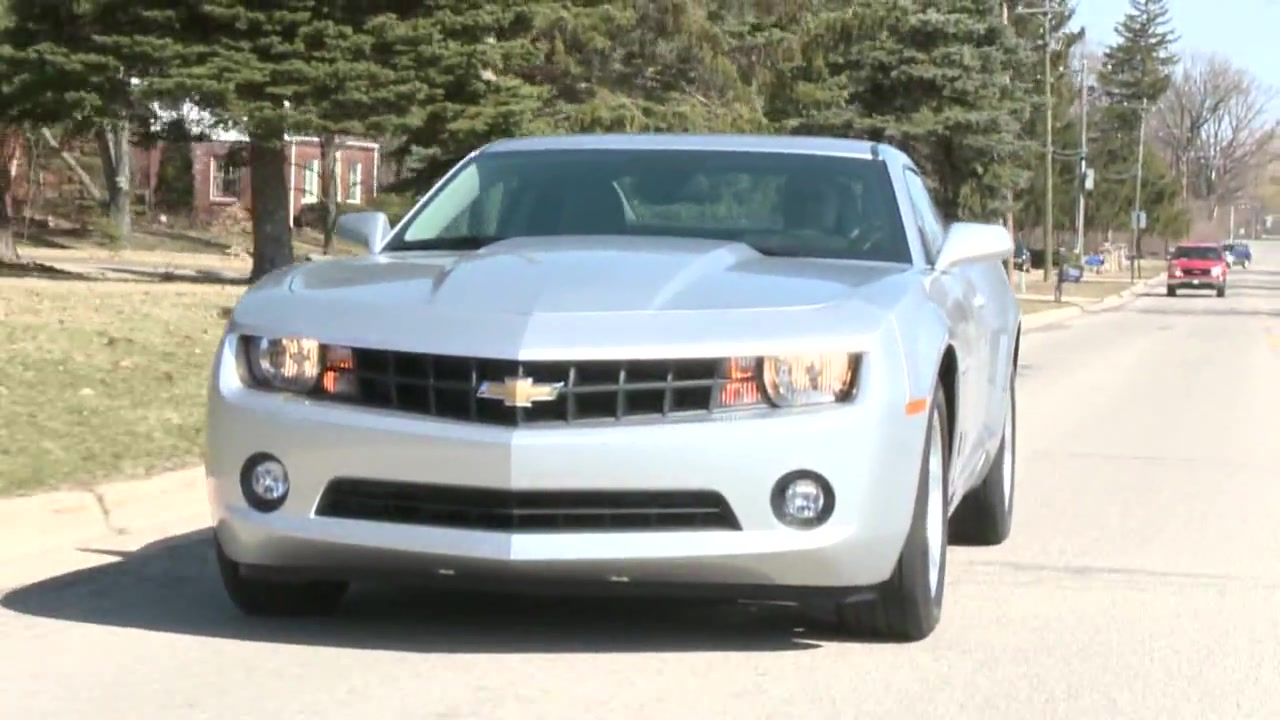car: (203, 128, 1025, 644)
